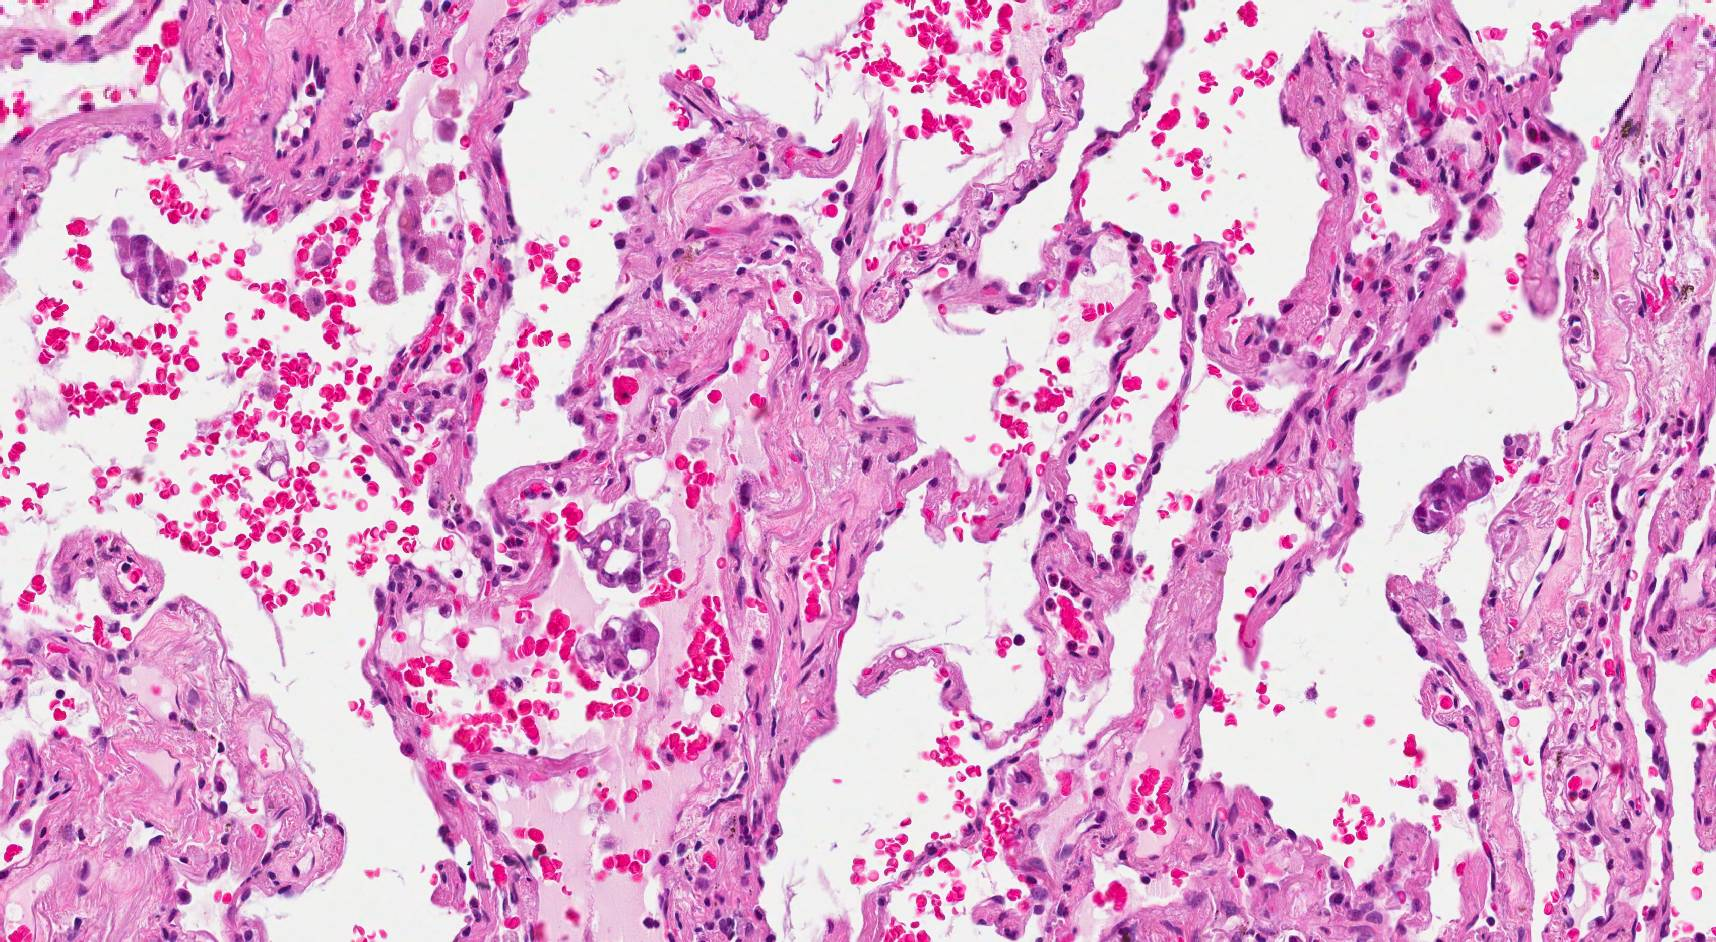stas: (567, 496, 676, 599), (108, 210, 197, 315), (1408, 448, 1497, 537), (569, 609, 662, 688)
